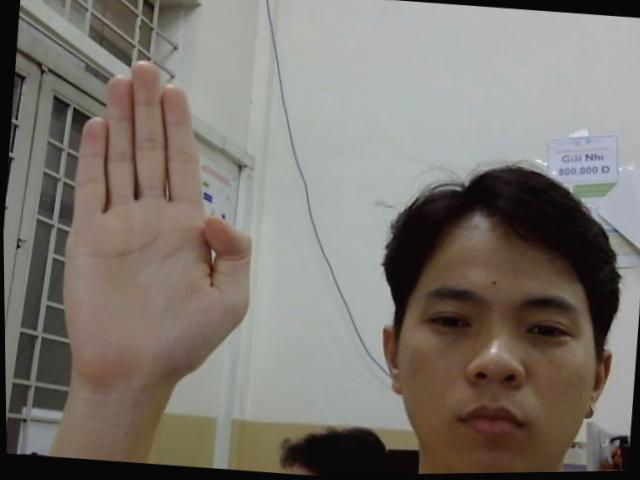B: (22, 51, 295, 401)
